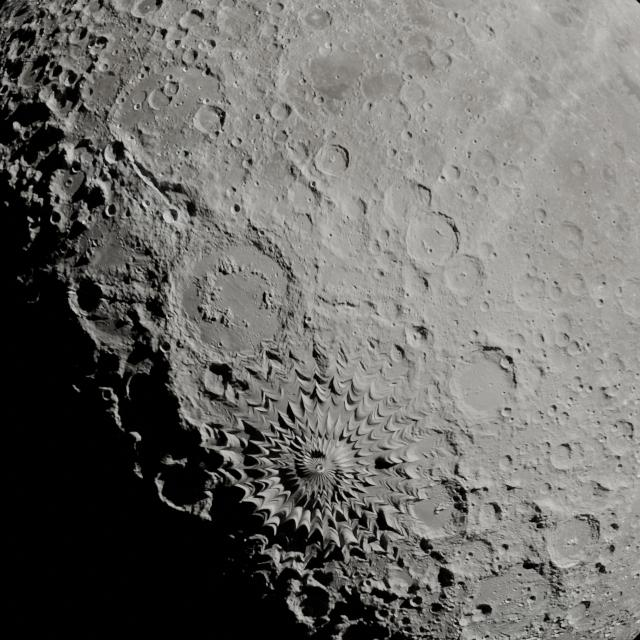crater: (83, 230, 157, 300), (544, 514, 602, 568), (405, 215, 457, 268), (404, 488, 462, 534), (380, 180, 420, 226), (468, 495, 512, 536), (327, 187, 366, 229), (50, 167, 87, 205), (399, 49, 437, 82), (603, 422, 636, 458), (72, 278, 105, 314), (298, 583, 334, 616), (315, 143, 349, 177), (192, 104, 225, 136), (548, 440, 582, 470), (606, 204, 636, 238), (614, 281, 640, 318), (605, 255, 634, 288), (563, 601, 596, 630), (282, 137, 312, 165), (398, 81, 428, 107), (403, 32, 435, 56), (404, 324, 432, 351), (551, 314, 577, 341), (560, 221, 584, 248), (130, 0, 161, 19), (303, 8, 331, 29), (499, 163, 524, 186), (147, 88, 172, 111), (178, 10, 205, 30), (566, 273, 588, 297), (50, 205, 71, 230), (268, 101, 290, 122), (550, 9, 574, 28), (429, 50, 452, 69), (440, 163, 461, 183), (68, 28, 91, 46), (616, 419, 636, 439), (103, 143, 122, 164), (161, 207, 181, 226), (458, 611, 478, 628), (569, 160, 587, 178), (610, 141, 627, 159), (84, 1, 104, 16), (181, 48, 198, 65), (601, 164, 617, 182), (566, 340, 583, 356), (162, 80, 179, 96), (602, 383, 620, 398), (272, 129, 288, 144), (62, 71, 78, 86), (342, 39, 359, 53), (166, 37, 182, 51), (185, 200, 197, 218), (534, 208, 548, 223), (500, 356, 514, 371), (270, 1, 286, 14), (466, 184, 479, 198), (94, 36, 108, 49), (225, 186, 238, 199), (488, 175, 501, 188), (105, 204, 117, 218), (429, 602, 443, 614), (230, 136, 243, 148), (204, 38, 217, 50), (401, 130, 414, 142), (242, 158, 254, 170), (479, 300, 491, 312), (448, 10, 460, 22), (501, 407, 514, 418), (320, 40, 333, 51), (302, 314, 312, 328), (313, 95, 325, 106), (98, 61, 110, 72), (410, 596, 422, 607), (141, 199, 152, 210), (462, 92, 473, 102), (165, 73, 175, 82), (252, 112, 262, 121), (309, 180, 318, 189), (232, 204, 241, 213), (118, 96, 126, 104), (133, 103, 141, 111), (597, 298, 605, 306), (528, 594, 536, 602), (376, 52, 384, 59)
rock: (197, 297, 214, 329), (215, 256, 240, 276)
